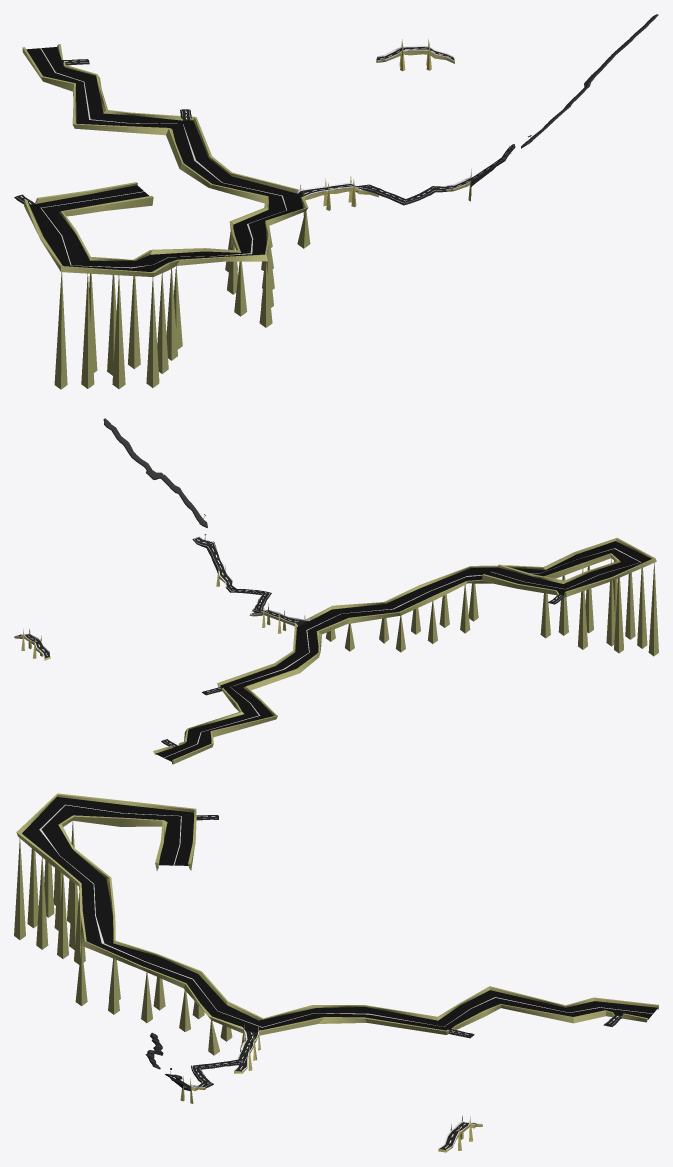
Rendered from e_highwayandroads.fbx.
3 renders of one model, top to bottom at view 1: azimuth 30°, elevation 25°; view 2: azimuth 150°, elevation 25°; view 3: azimuth 270°, elevation 25°, orthographic. The views are drawn at different scales.
Parts seen in each view (by area): view 1: e_highwayandroads; view 2: e_highwayandroads; view 3: e_highwayandroads.
Part boxes in pixels (x1,y1,x2,y2): e_highwayandroads: [14, 14, 658, 389]; e_highwayandroads: [14, 418, 658, 764]; e_highwayandroads: [14, 793, 658, 1152].
Bounding box in the file's own units: 282 × 75.98 × 262.
